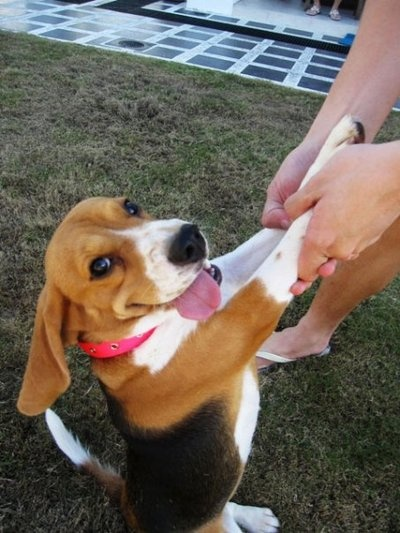dog: (15, 115, 378, 533)
